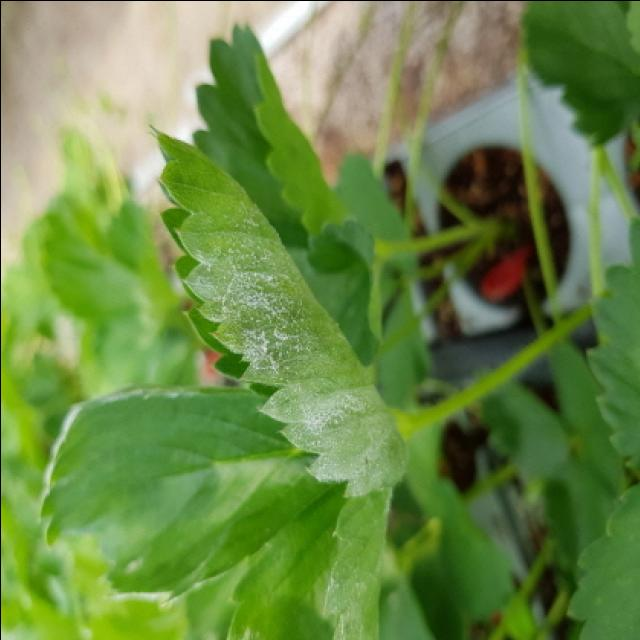Powdery Mildew Leaf: (148, 124, 408, 498), (37, 385, 339, 607), (226, 482, 393, 640)
